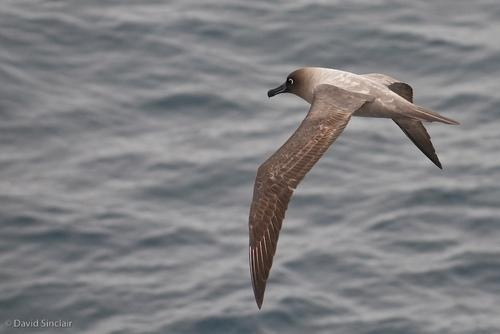bird: (247, 65, 458, 310)
